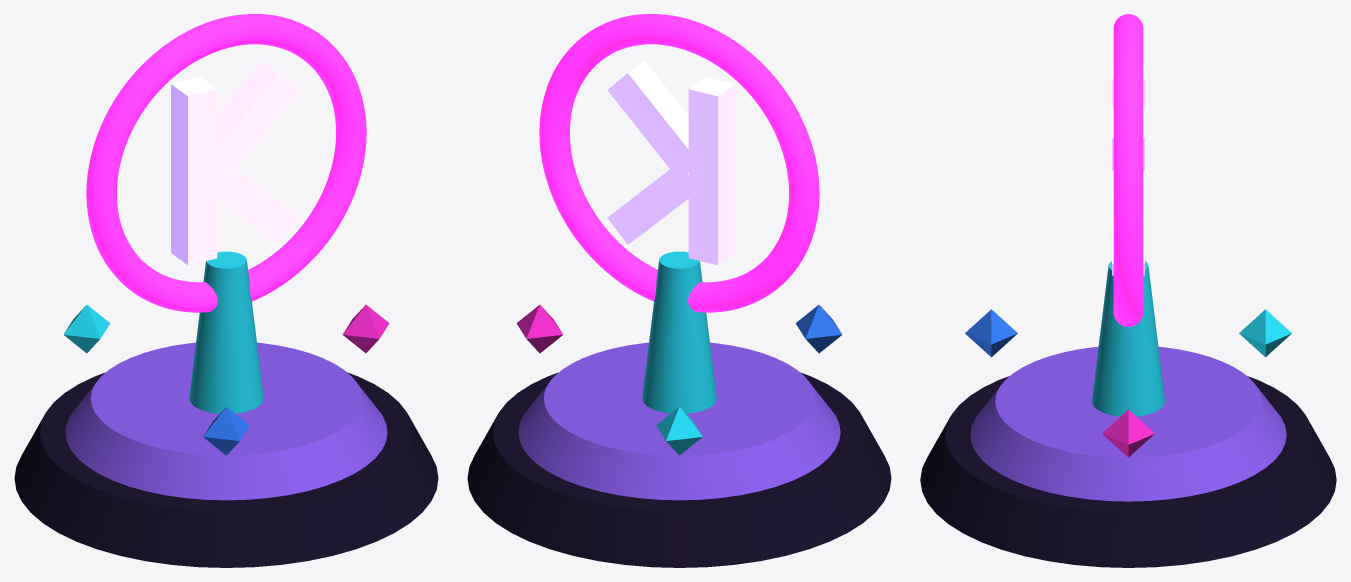
Rendered from kalixto-trofeu.glb.
3 renders of one model, left to right at view 1: azimuth 30°, elevation 25°; view 2: azimuth 150°, elevation 25°; view 3: azimuth 270°, elevation 25°, orthographic.
Parts seen in each view (by area): view 1: Base, Degrau, Anel, LetraK, Haste, Cristal1, Cristal2, Cristal3; view 2: Base, Degrau, Anel, LetraK, Haste, Cristal1, Cristal3, Cristal2; view 3: Base, Degrau, Anel, Haste, Cristal1, Cristal2, Cristal3, LetraK.
Boxes of the visible parts, x1,y1,x2,y2 form: Base: (14,372,438,567); Degrau: (65,342,387,500); Anel: (86,14,366,312); LetraK: (171,60,298,265); Haste: (189,251,263,413); Cristal1: (342,304,389,353); Cristal2: (203,407,249,455); Cristal3: (63,305,110,353); Base: (467,372,891,567); Degrau: (518,342,840,500); Anel: (539,14,819,312); LetraK: (607,60,734,265); Haste: (642,251,716,413); Cristal1: (516,304,563,353); Cristal3: (656,407,702,455); Cristal2: (795,305,842,353); Base: (920,376,1336,567); Degrau: (970,346,1286,501); Anel: (1113,14,1143,326); Haste: (1092,261,1164,416); Cristal1: (1102,409,1154,457); Cristal2: (965,309,1017,357); Cristal3: (1239,309,1291,357); LetraK: (1112,65,1144,275).
Bounding box in the file's own units: 2.5 × 2.99 × 2.5.
